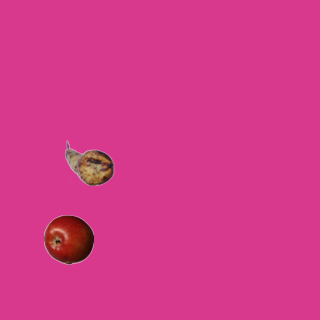Apple Braeburn: (43, 214, 93, 264)
Pear Abate: (64, 138, 114, 188)
